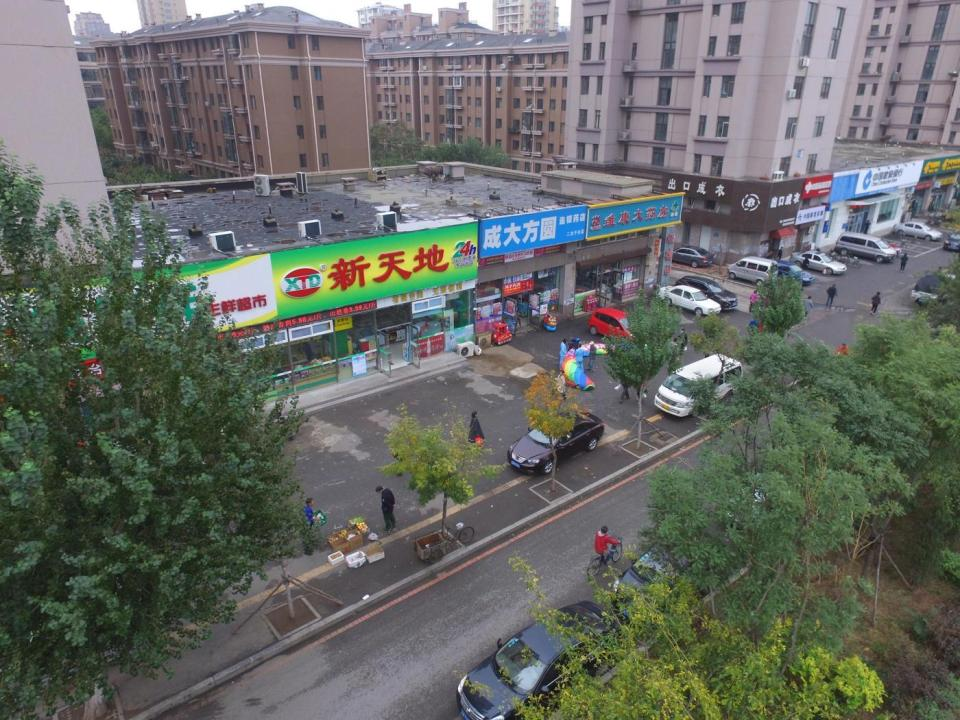car: (455, 601, 631, 720), (610, 532, 731, 626), (507, 410, 605, 476), (716, 472, 816, 532), (587, 307, 650, 346), (675, 276, 738, 310), (657, 284, 720, 316), (789, 250, 846, 276), (768, 260, 814, 283), (666, 246, 713, 268), (892, 222, 943, 242), (863, 241, 901, 255), (943, 228, 960, 250)
truck: (909, 274, 960, 306)
van: (654, 353, 742, 418), (834, 232, 897, 262), (727, 256, 778, 286)
